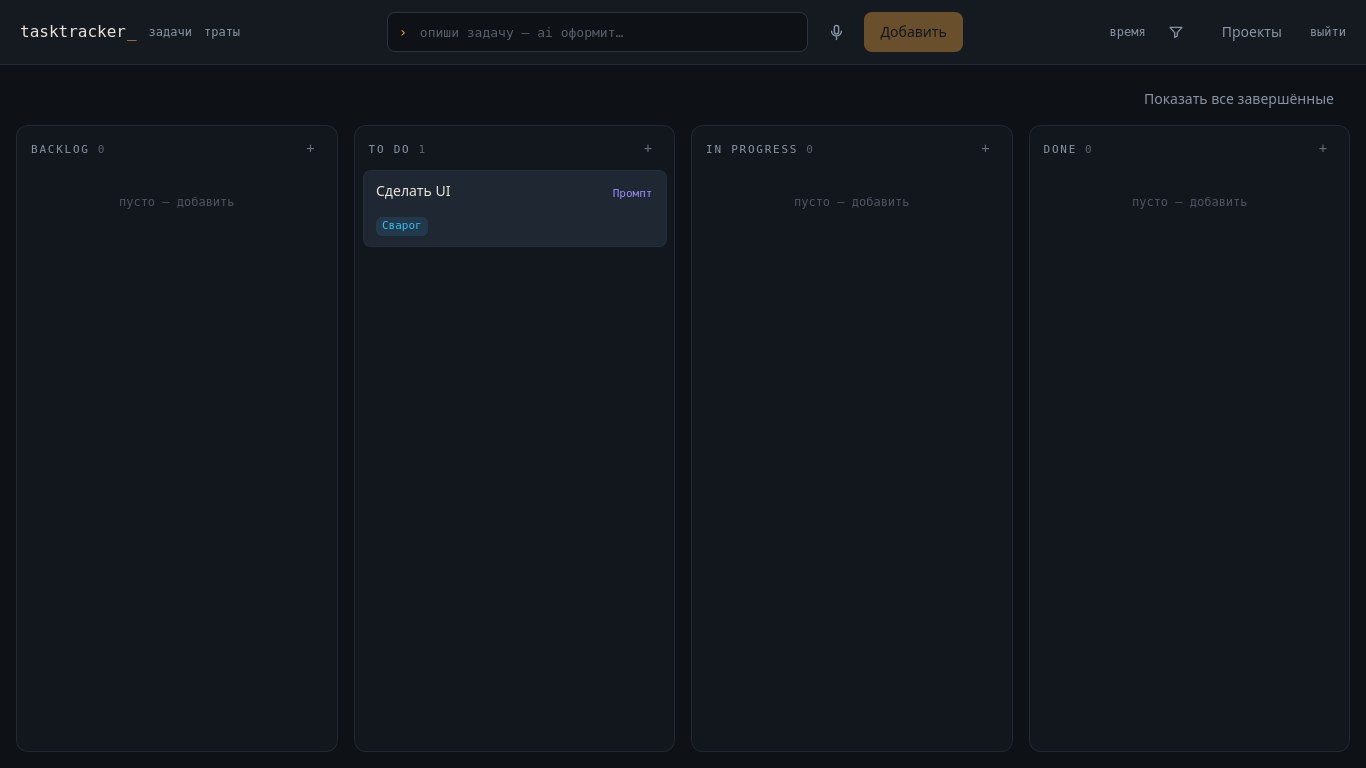
Scenario: Промпт для кодового агента › если копирование запрещено, выделяет текст для ручного копирования
Click the button with aria-label "Промпт для задачи «Сделать UI»".
click(632, 194)  # box [604,176,660,212]
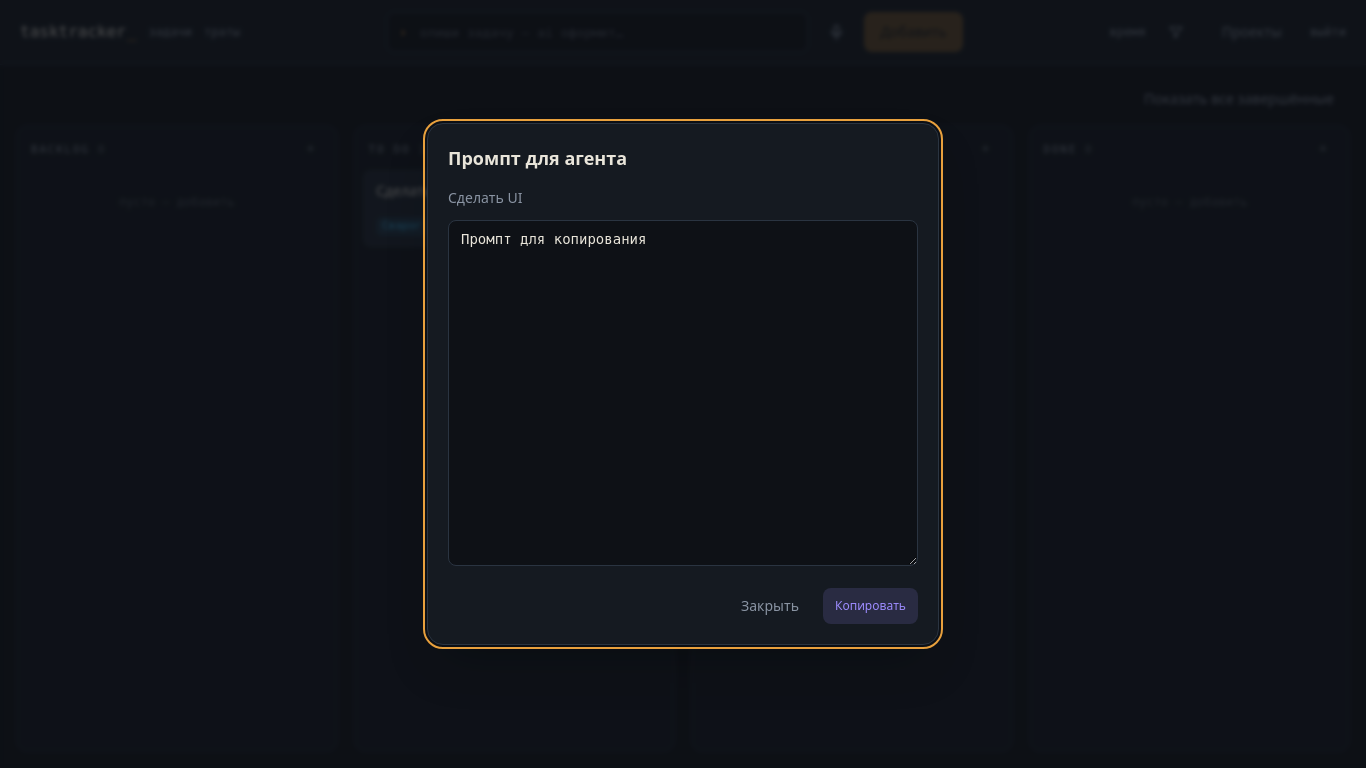
Click the button "Копировать".
click(870, 606)  # box [823,588,918,624]
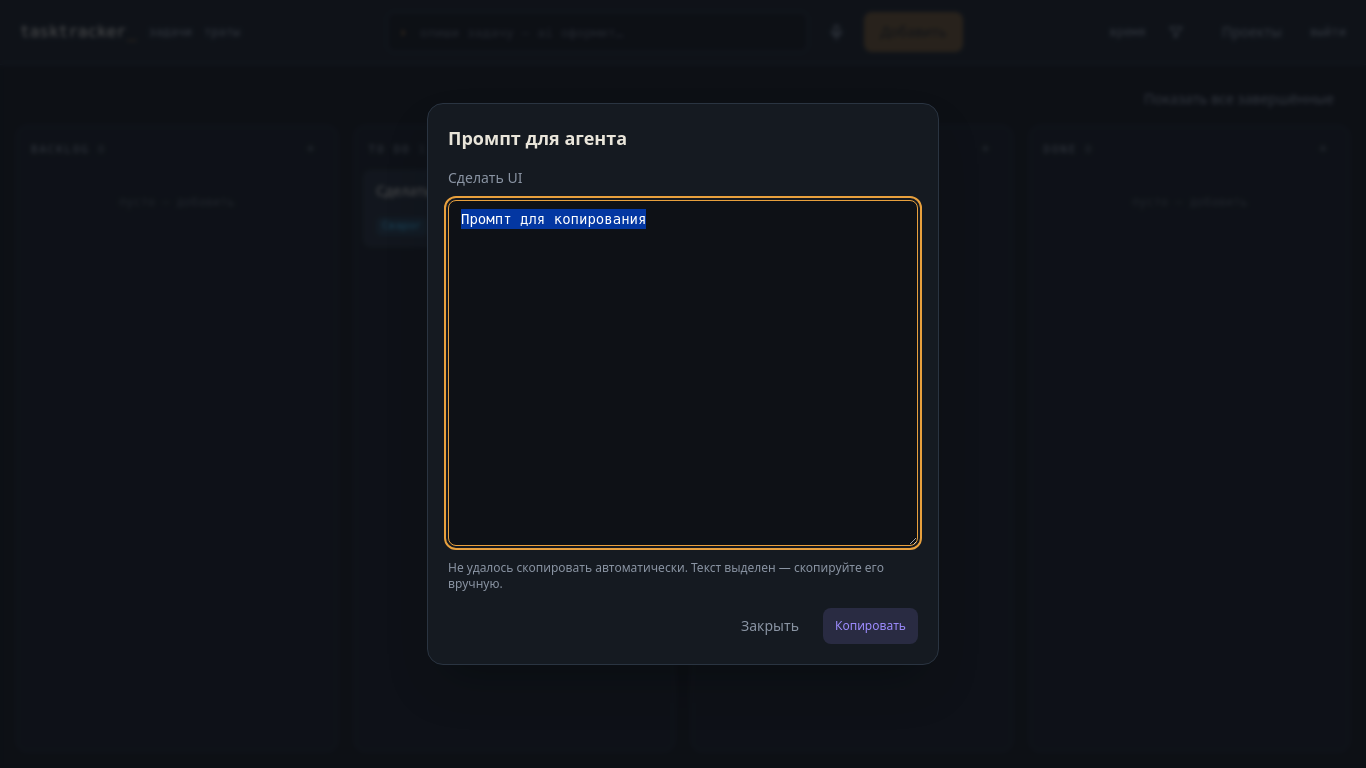
Expected: the text "Не удалось скопировать автоматически. Текст выделен — скопируйте его вручную." is shown, [448,560,918,592]
